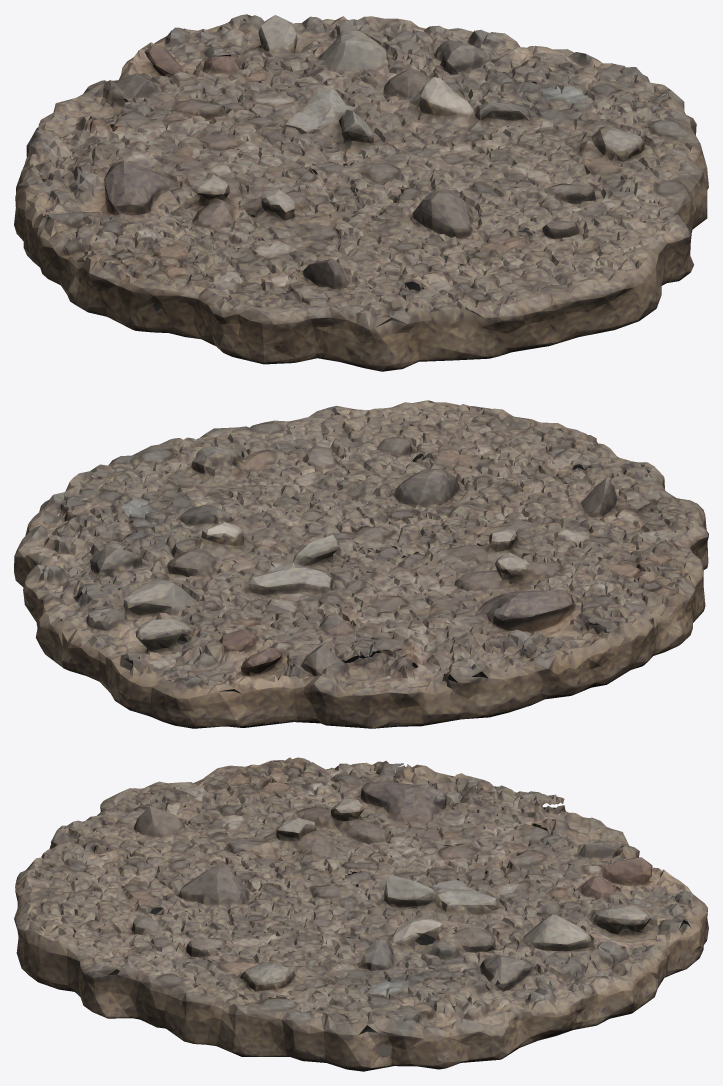
The picture shows the model from 3 angles, top to bottom: view 1: azimuth 30°, elevation 25°; view 2: azimuth 150°, elevation 25°; view 3: azimuth 270°, elevation 25°; orthographic projection. The views are drawn at different scales.
Visible parts, largest first — view 1: world; view 2: world; view 3: world.
Boxes of the visible parts, left/top/right/bottom form: world: left=14, top=14, right=708, bottom=371; world: left=14, top=400, right=708, bottom=728; world: left=14, top=757, right=708, bottom=1071.
Size of the model in its own units: 4.46 by 0.5037 by 4.72.
Materials: 1 (1 with a texture image).
